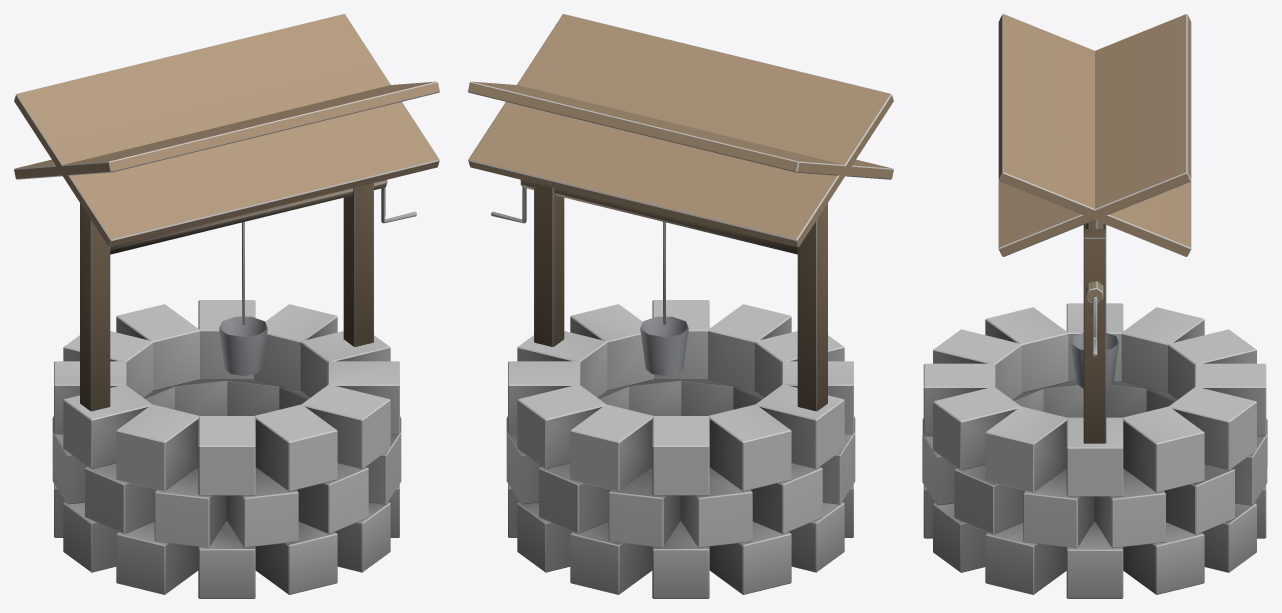
The model's file is well.glb.
The picture shows the model from 3 angles, left to right: view 1: azimuth 30°, elevation 25°; view 2: azimuth 150°, elevation 25°; view 3: azimuth 270°, elevation 25°; orthographic projection.
Parts seen in each view (by area): view 1: well; view 2: well; view 3: well.
Boxes of the visible parts, x1,y1,x2,y2 form: well: (14,14,439,598); well: (468,14,893,598); well: (922,14,1267,598).
Bounding box in the file's own units: 2.15 × 2.54 × 1.83.
